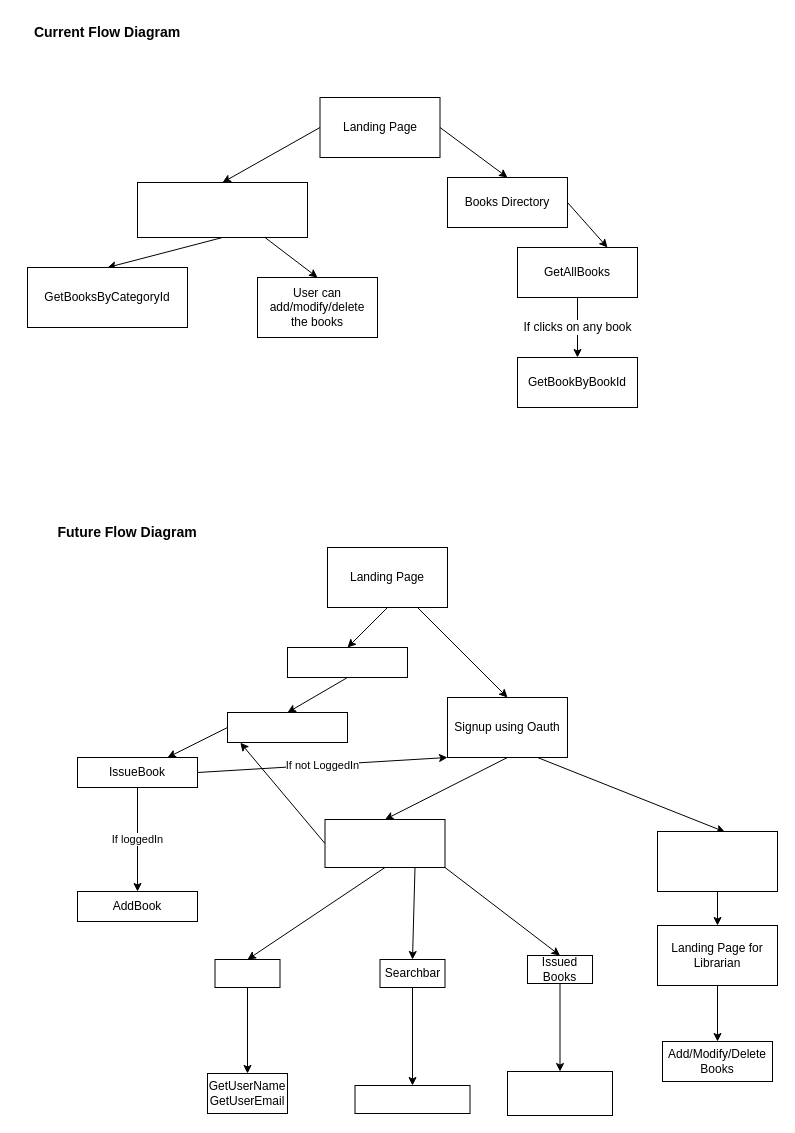
Some shapes in this 795 by 1133 pixel diagram are drawn without their labels. The shapes that lost their labels are listed below. From the top down, each one's box as (x1, y1, x2, y2) in pixels, then its label:
(136, 182, 308, 238): Category (Select one of the category)
(286, 646, 408, 678): NewArrivals if clicks on any of the book
(226, 712, 348, 742): BookInfoPage of that specific book
(324, 818, 445, 868): User Login using Oauth
(656, 830, 778, 892): Librarian Login
(214, 958, 280, 988): User Profile
(354, 1084, 470, 1114): GetByBookName GetByCategoryName
(506, 1070, 612, 1116): FindByUserId DeleleByBookId based on UserId
